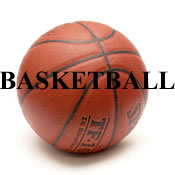basketball: (17, 21, 148, 155)
